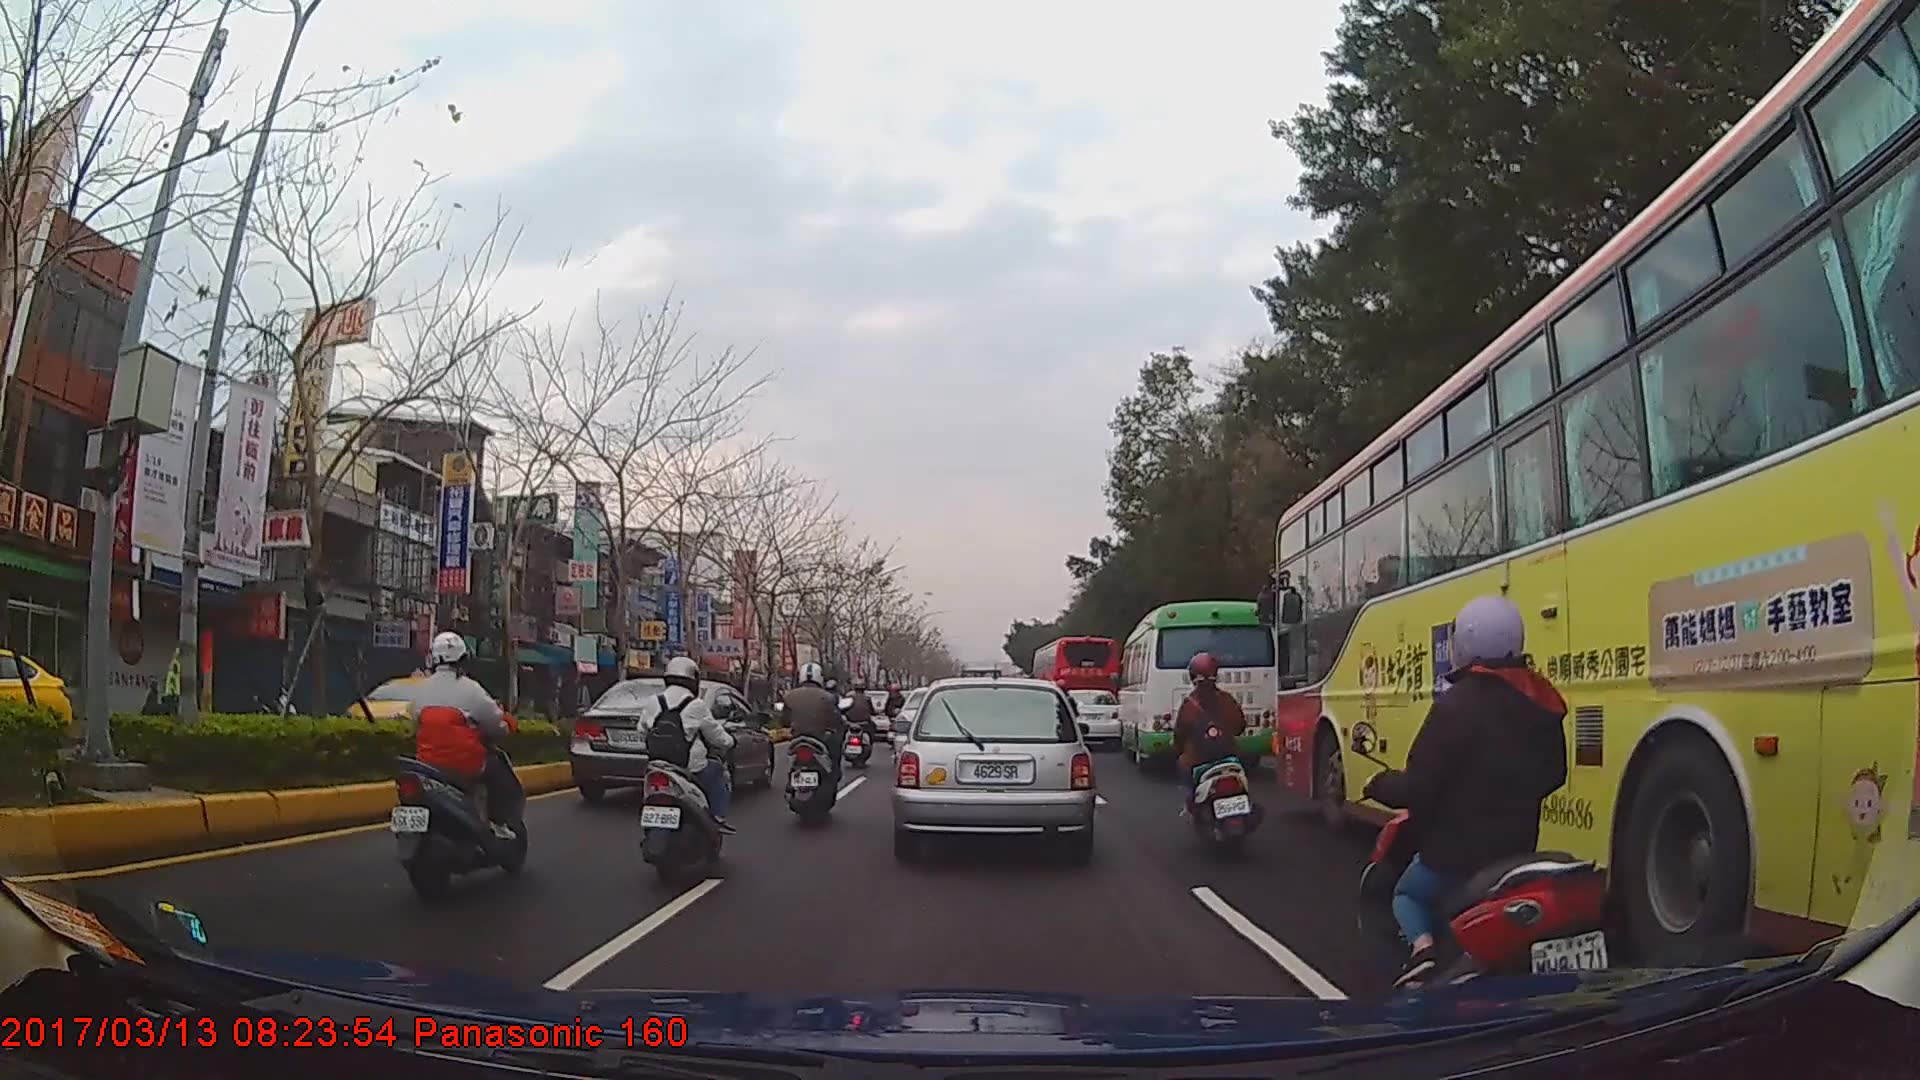rider: (1362, 595, 1614, 998), (391, 629, 528, 902), (638, 656, 733, 890), (1166, 649, 1258, 854), (778, 665, 851, 824), (842, 678, 880, 769), (884, 682, 907, 747)
vehicle: (1269, 0, 1920, 997), (891, 675, 1095, 857), (1115, 599, 1282, 773), (565, 677, 776, 804), (338, 664, 483, 750), (1031, 633, 1117, 740), (0, 642, 73, 763), (1052, 686, 1123, 744)
